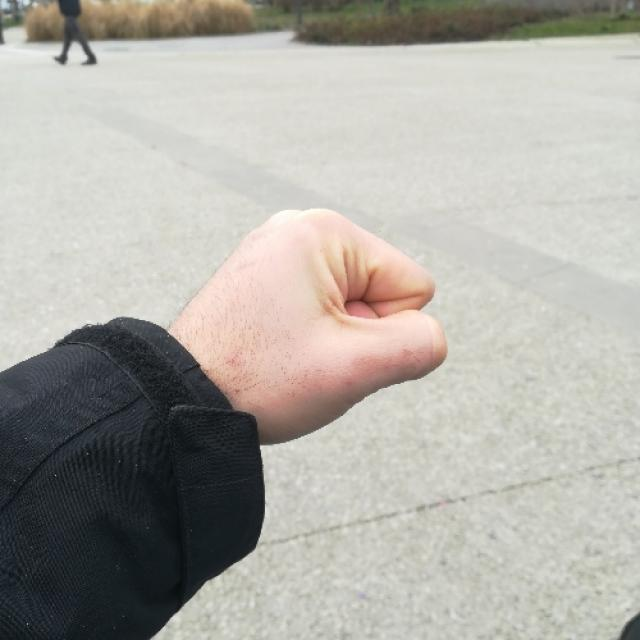rock: (194, 208, 447, 414)
